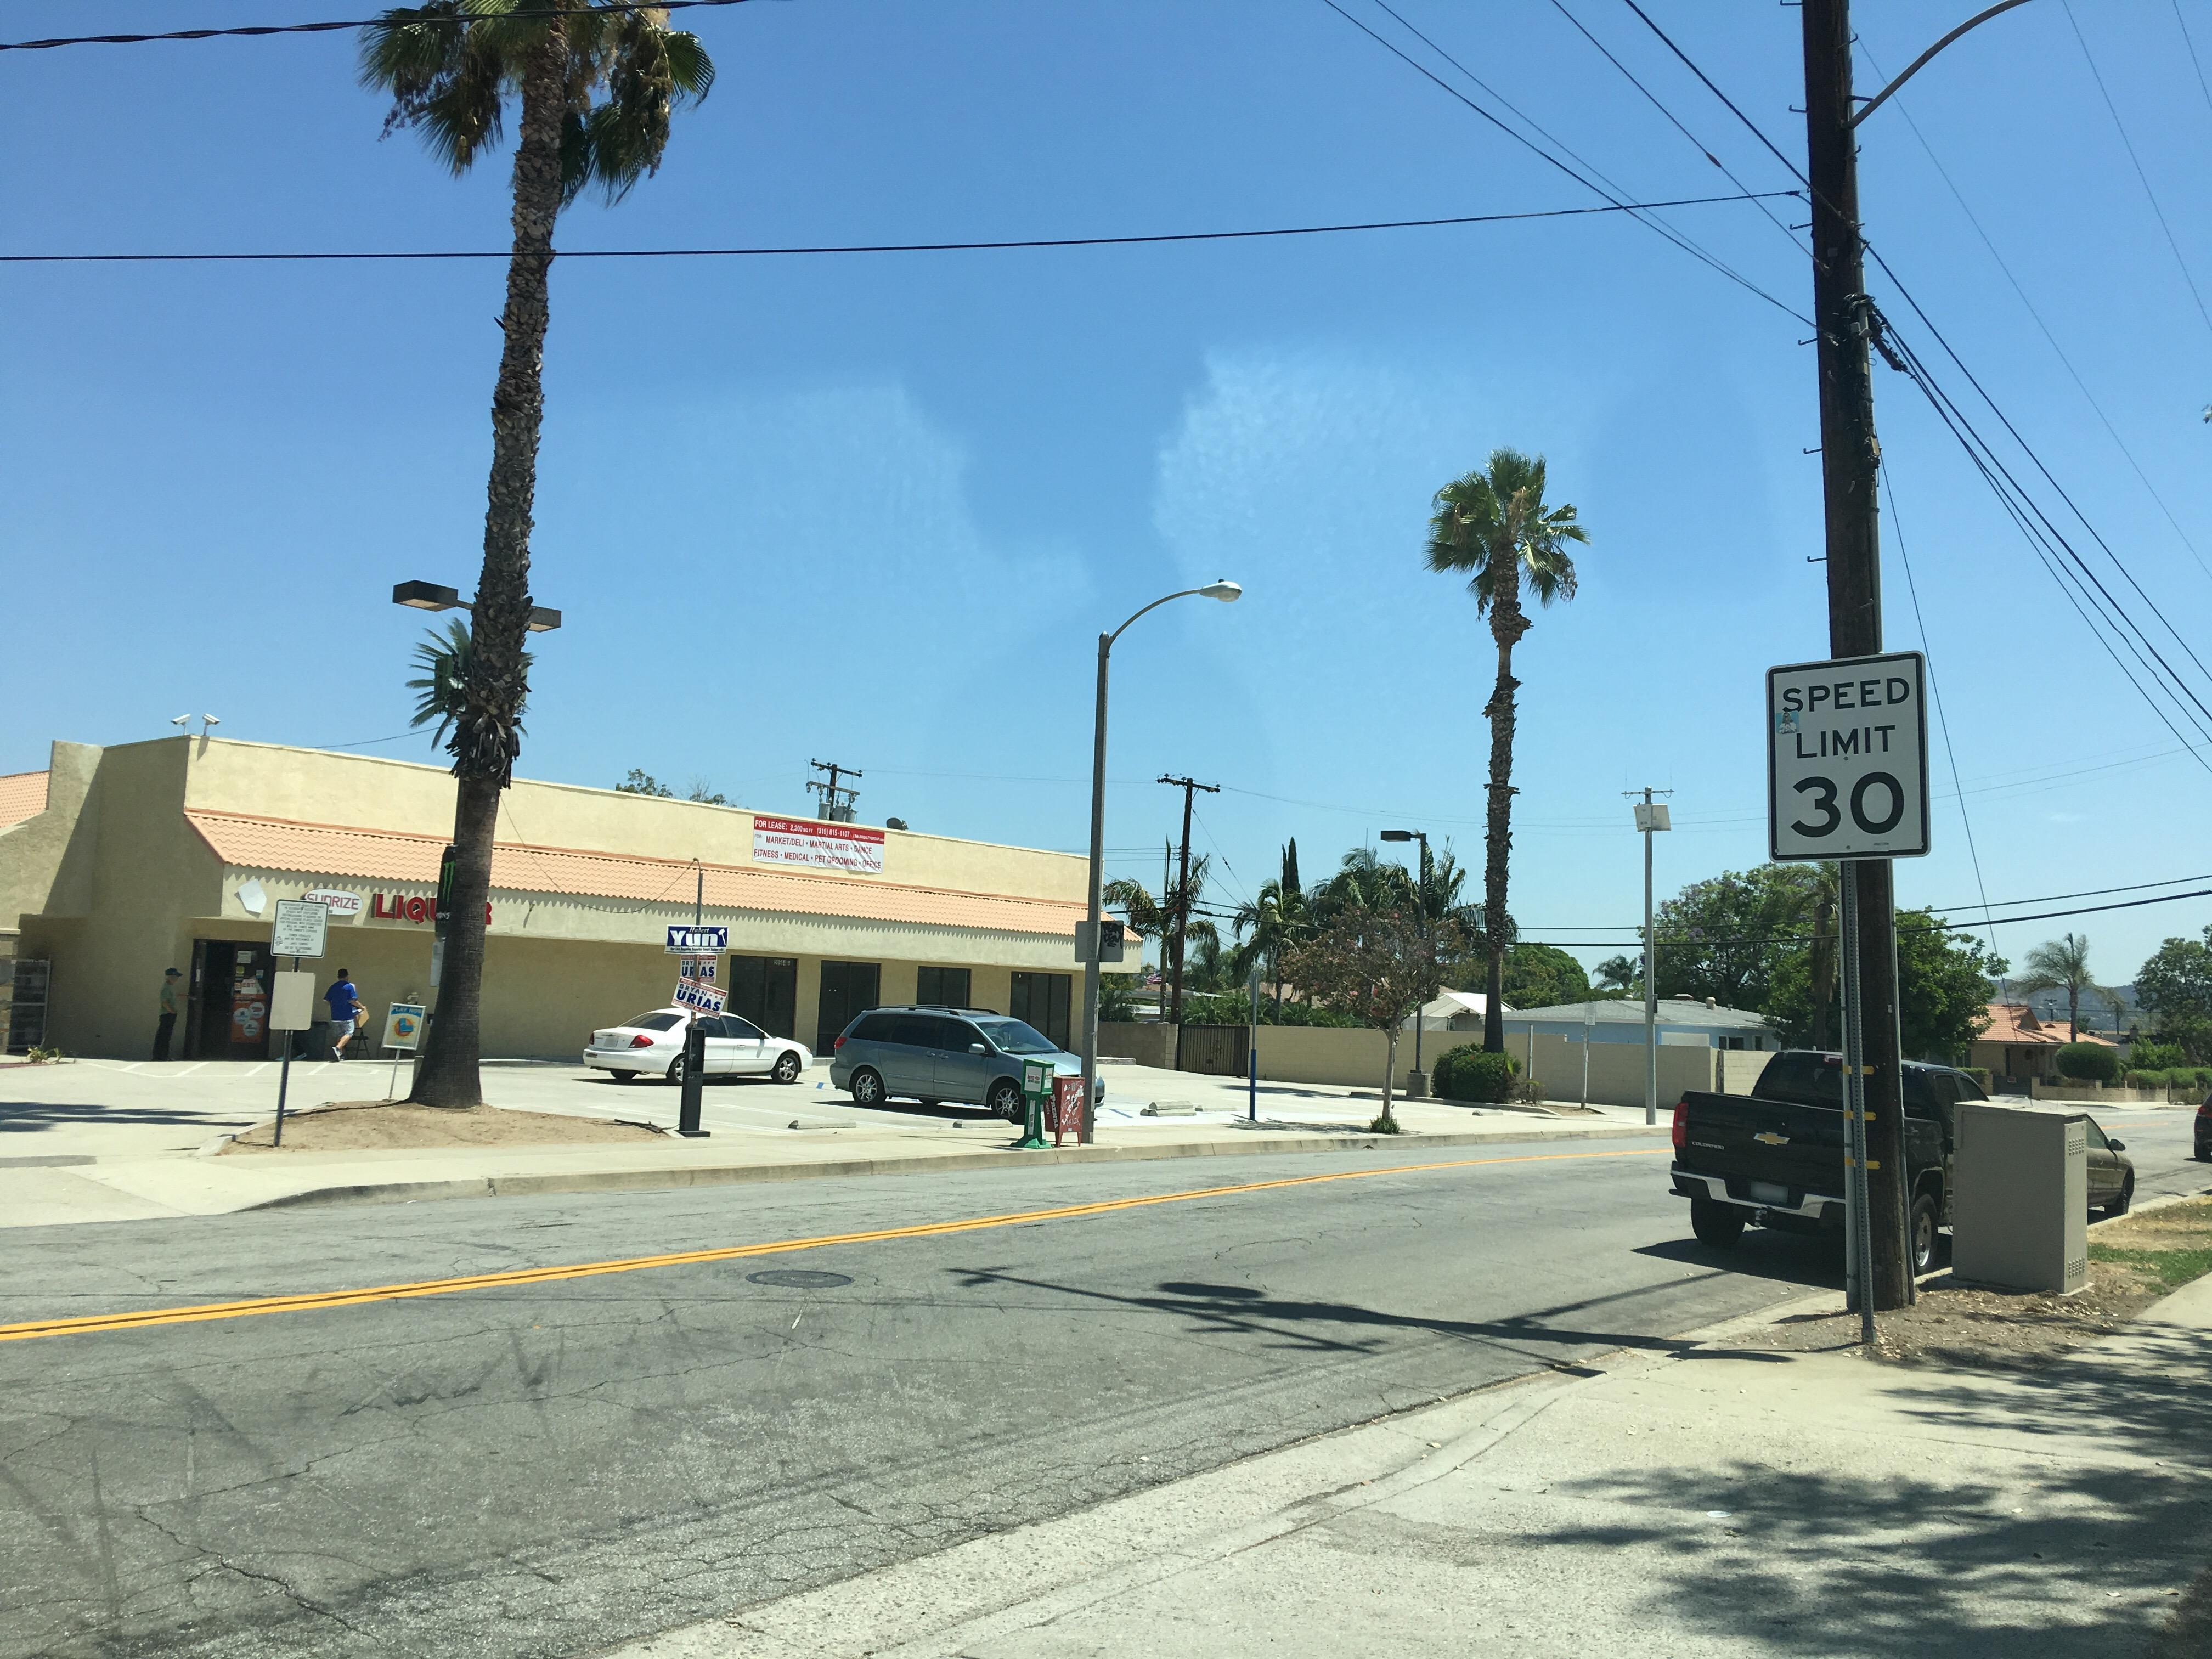vinyl banner: (733, 782, 900, 878)
